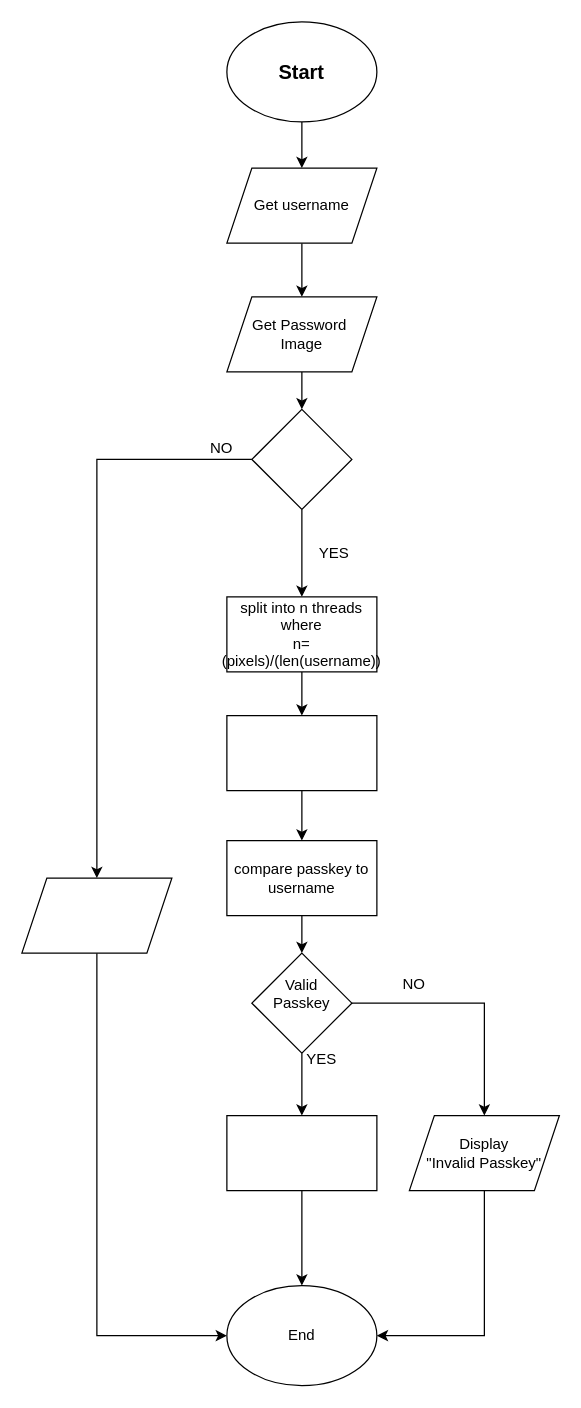
Some shapes in this 581 by 1408 pixel diagram are drawn without their labels. Here are the shapes that lost their labels. From the top down, the box of each, then its label:
(251, 408, 352, 509): Valid image file
(226, 714, 377, 791): Decode image and get binary passkey (each digit is its own thread)
(21, 877, 172, 953): Display Error Message
(226, 1114, 377, 1191): Unlock account
